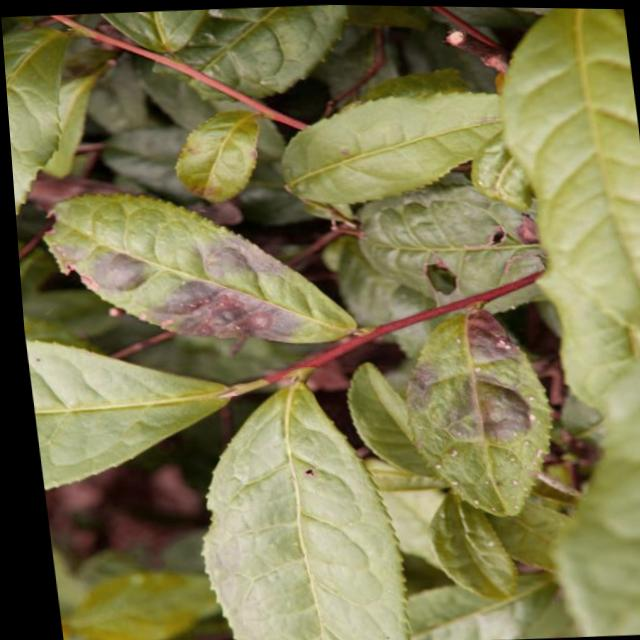Tea exobasidium blight: (145, 279, 266, 340), (438, 298, 526, 378), (185, 216, 273, 286), (435, 387, 529, 443), (76, 238, 159, 292), (377, 365, 440, 403)
